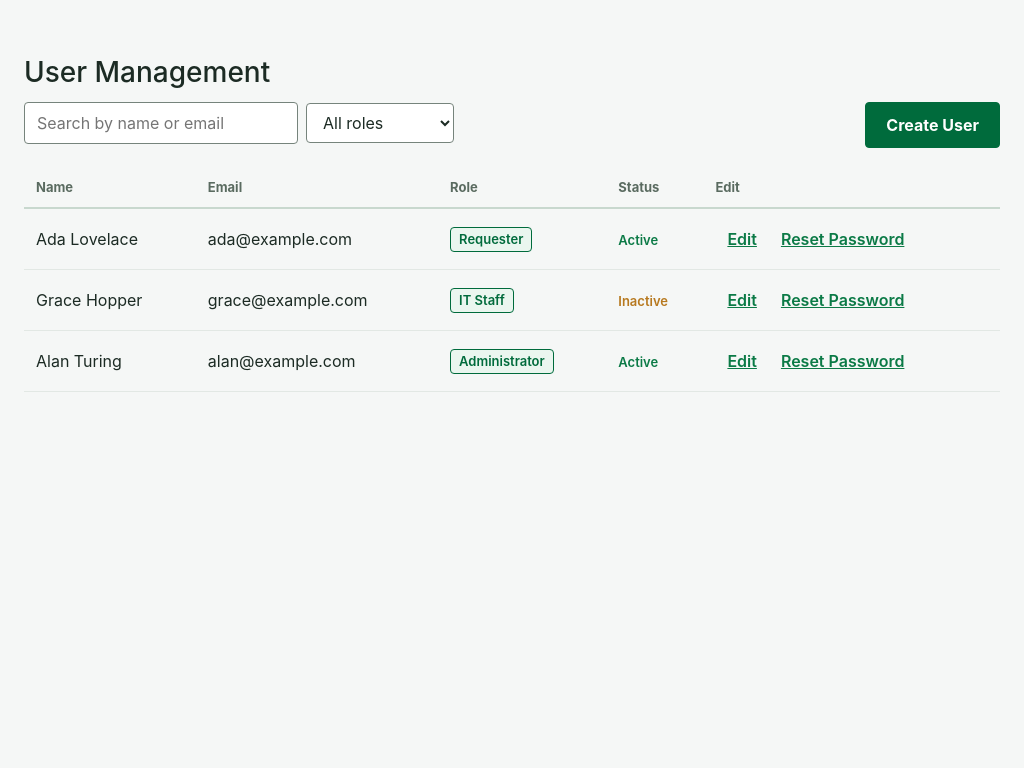
it: UI-ADM-01: User Management › creates a user through the Create User modal
Expected: the text "Ada Lovelace" is shown, [24,208,196,270]
Click the button "Create User" at [933, 125], box [865,102,1000,148]
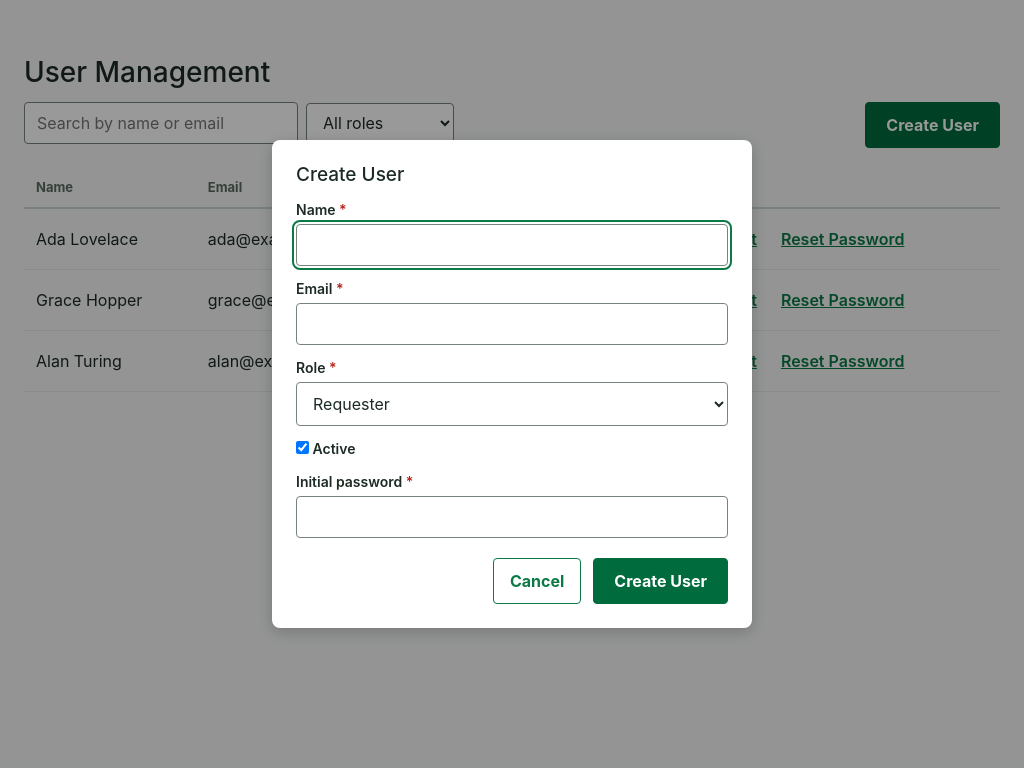
Type "New User" into the field labelled "Name *" at [512, 245], box [296,224,728,266]
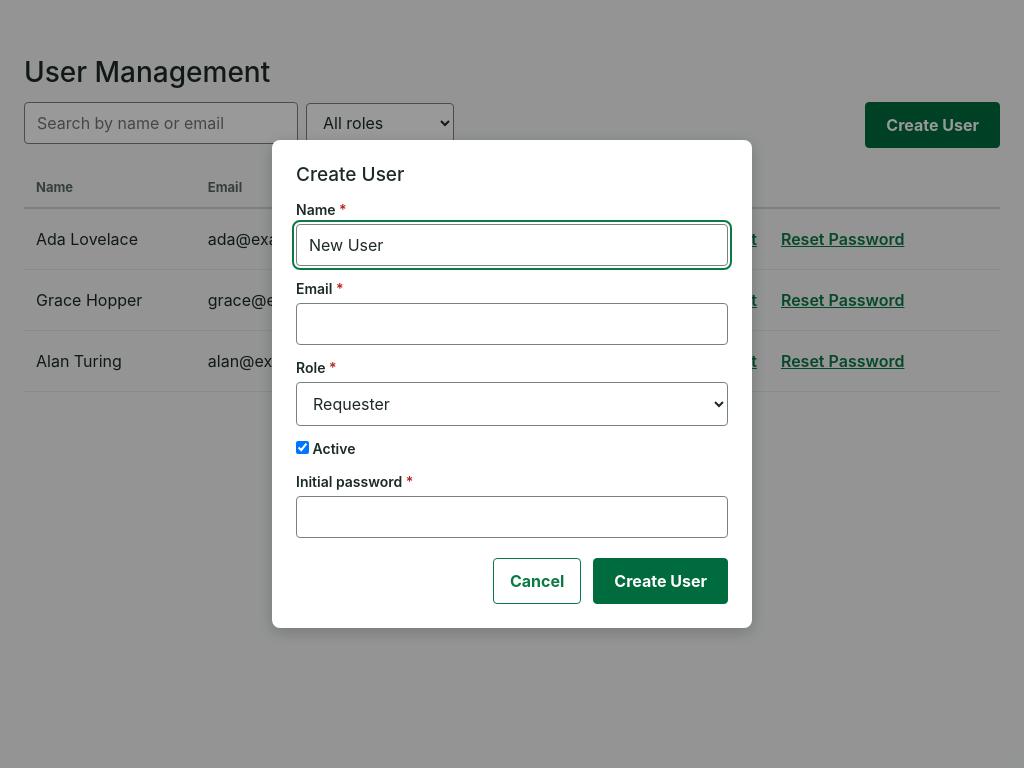
Type "new@example.com" into the field labelled "Email *" at [512, 324], box [296,303,728,345]
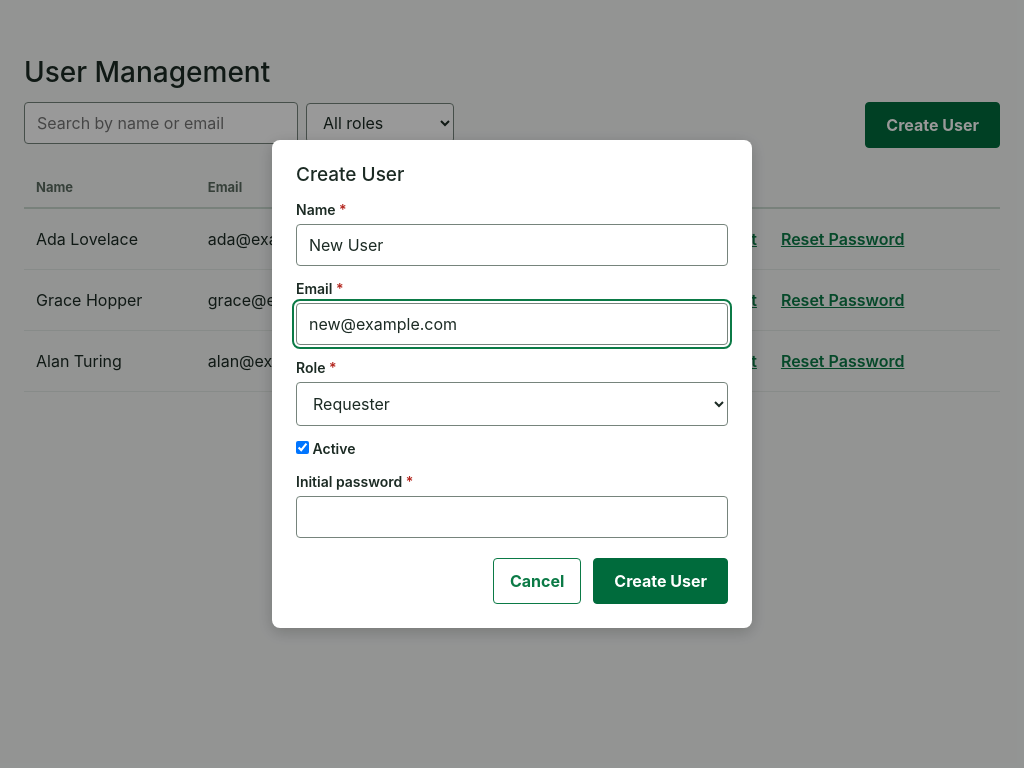
Type "ValidPass123!xyz" into the password field labelled "Initial password *" at [512, 517], box [296,496,728,538]
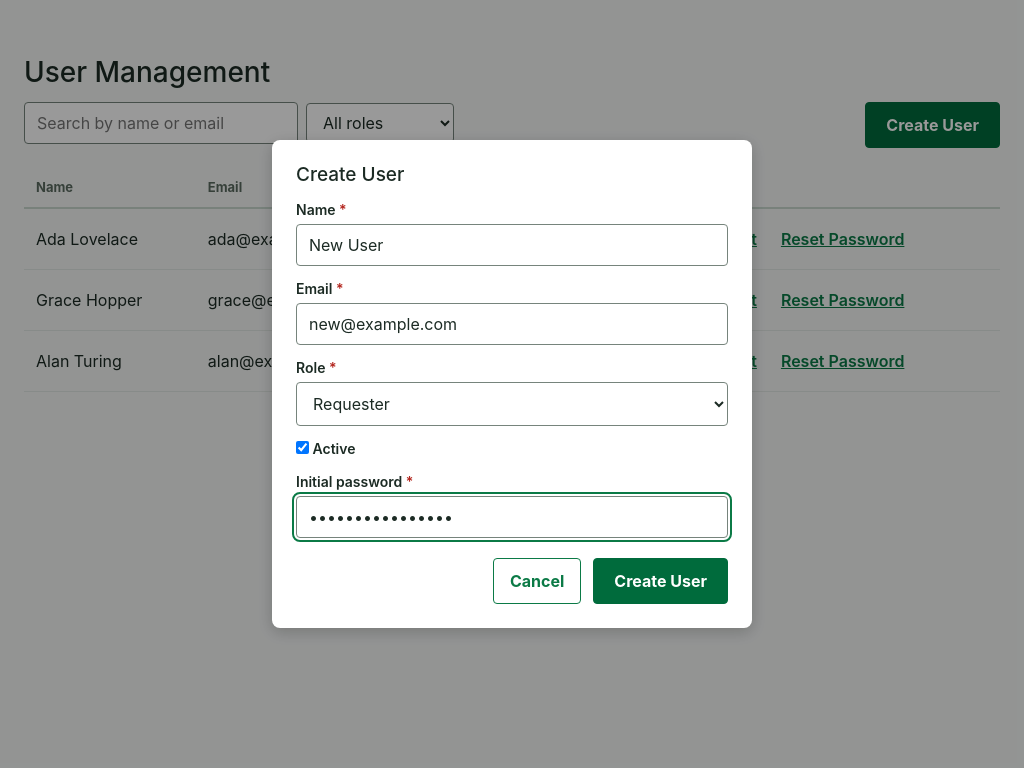
Click the button "Create User" at [661, 581], box [593,558,728,604]
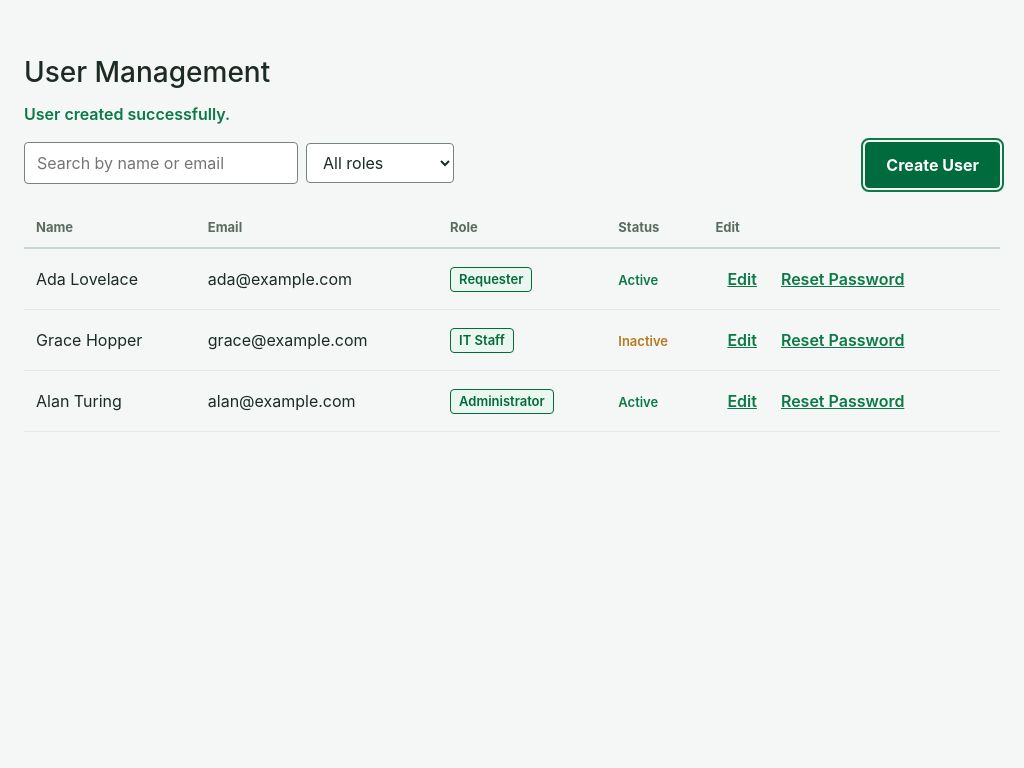
Expected: the message reads "User created successfully.", [24,104,230,124]
